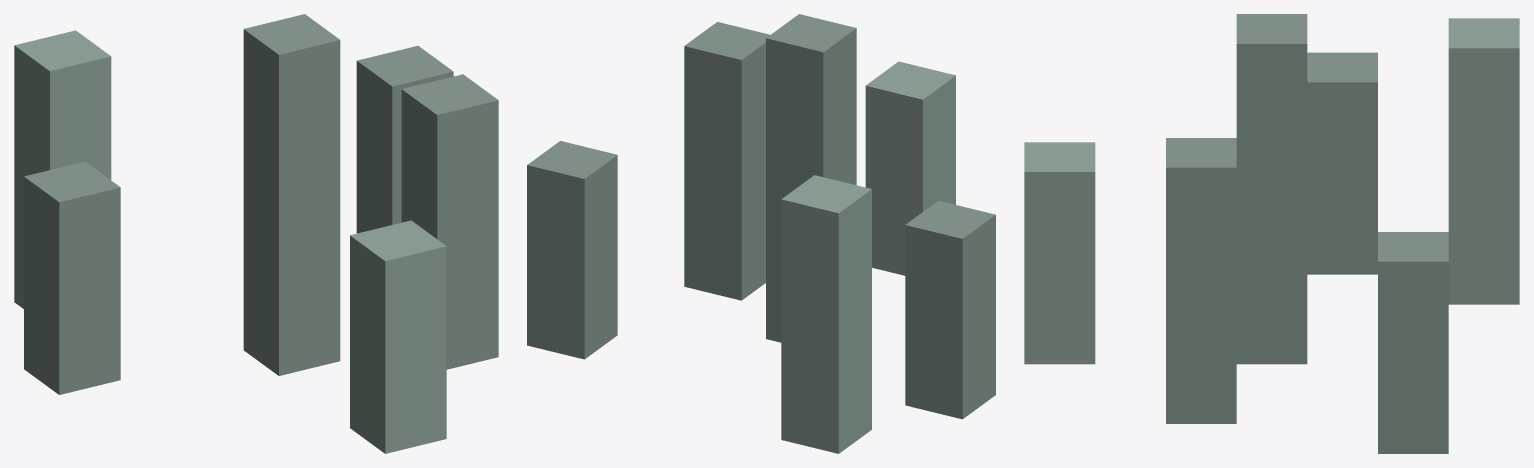
Rendered from romero_01.glb.
3 views of the same model, side by side, from view 1: azimuth 30°, elevation 25°; view 2: azimuth 150°, elevation 25°; view 3: azimuth 270°, elevation 25° (orthographic). The views are drawn at different scales.
Visible parts, largest first — view 1: romero_01; view 2: romero_01; view 3: romero_01.
Part boxes in pixels (box(x1,y1,x2,y2)): romero_01: box(14, 14, 498, 453); romero_01: box(527, 14, 995, 453); romero_01: box(1024, 14, 1519, 453).
Bounding box in the file's own units: 0.7 × 0.5 × 0.7.
